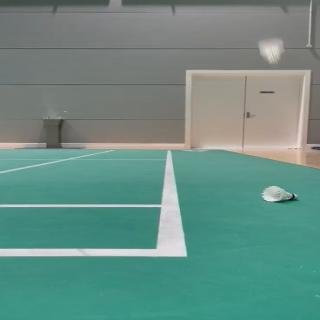Shuttle: (258, 37, 284, 64), (262, 185, 298, 202)
